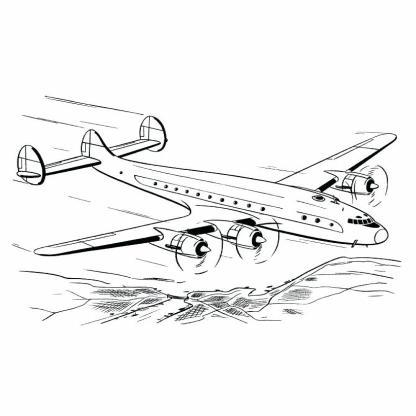CIV_Plane: (7, 113, 396, 283)
